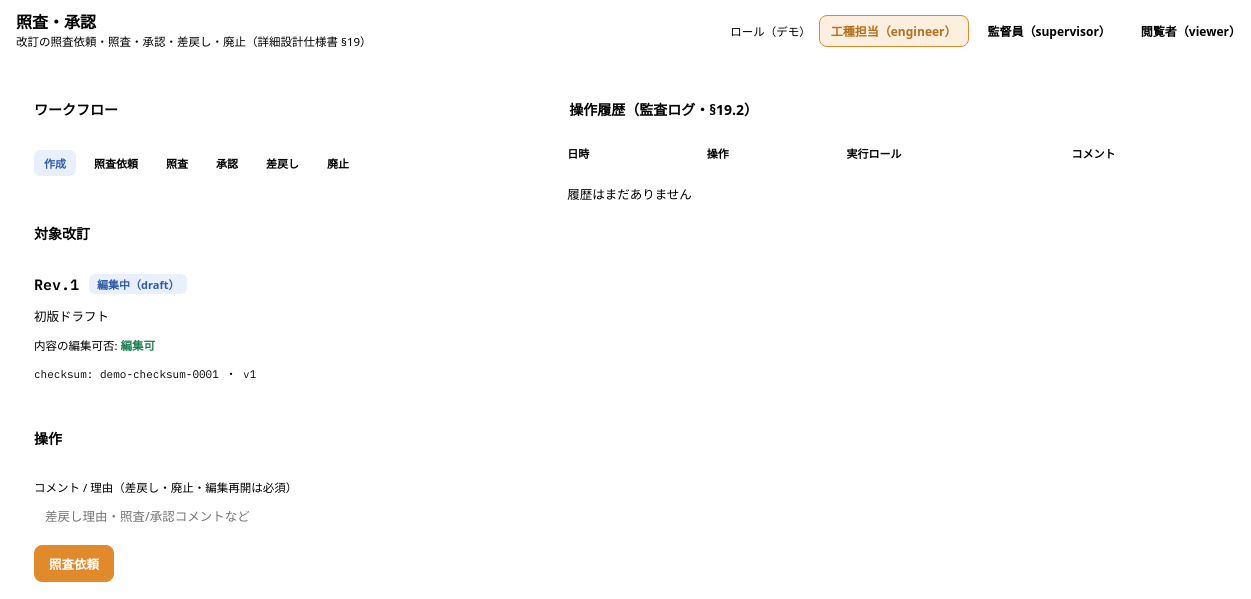
ReviewApprovalPage › supervisor が照査依頼→照査→承認で approved まで進める
Click the button "監督員（supervisor）" at [1049, 31], box [976,16,1122,46]
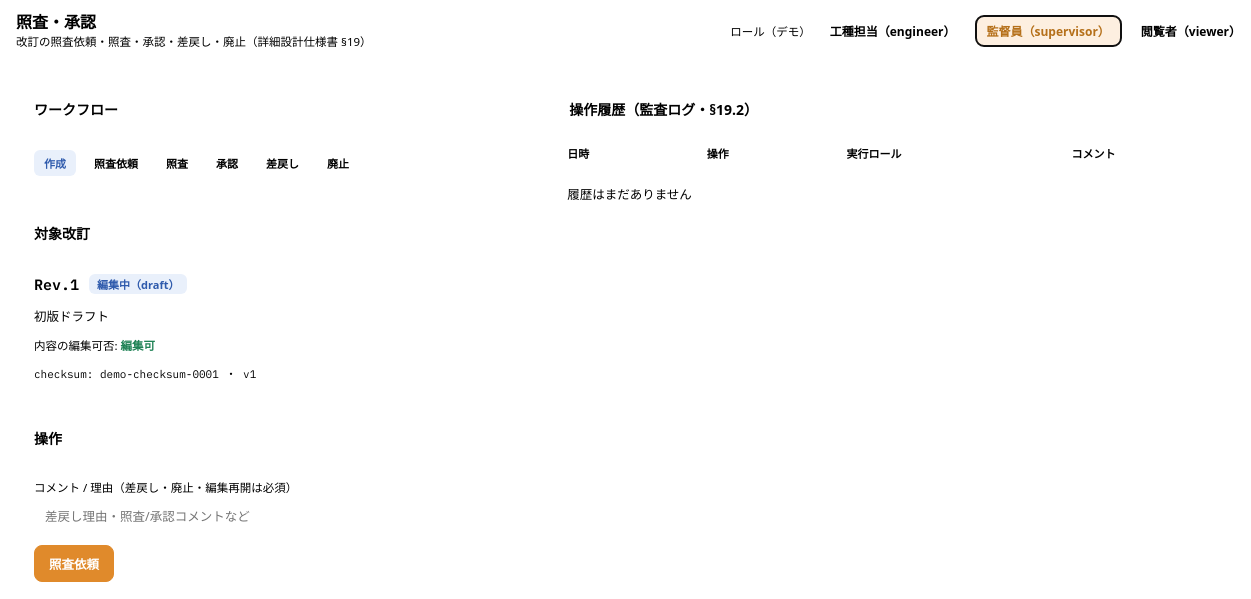
Click the button "照査依頼" at [74, 564], box [34,545,114,582]
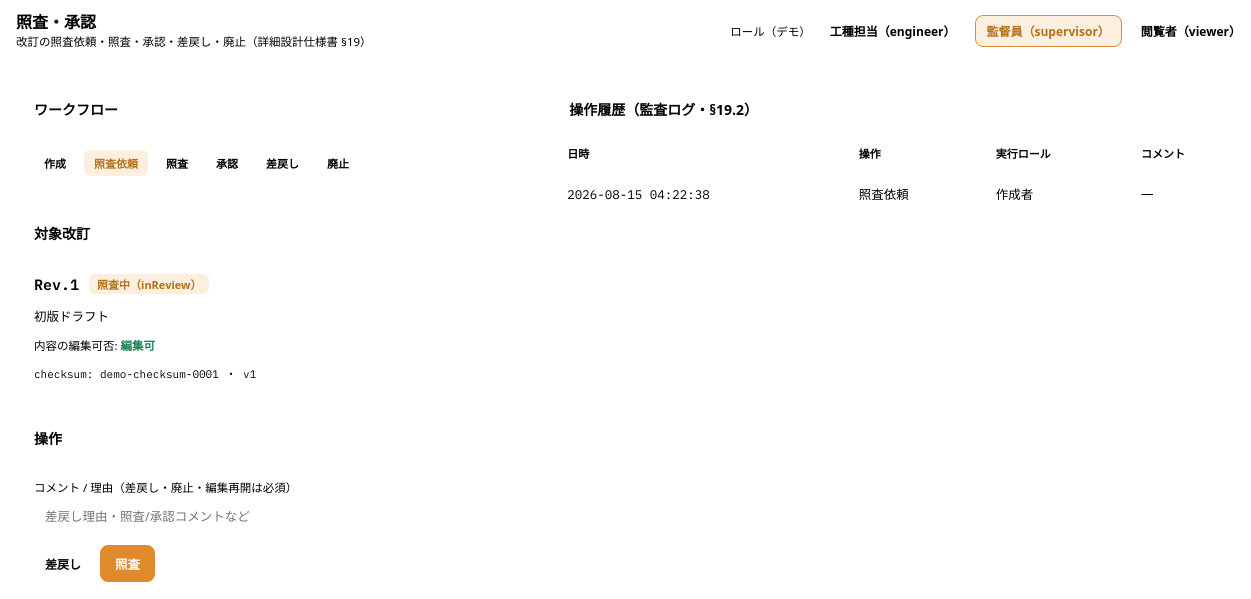
Click the button "照査" at [128, 564], box [100,545,155,582]
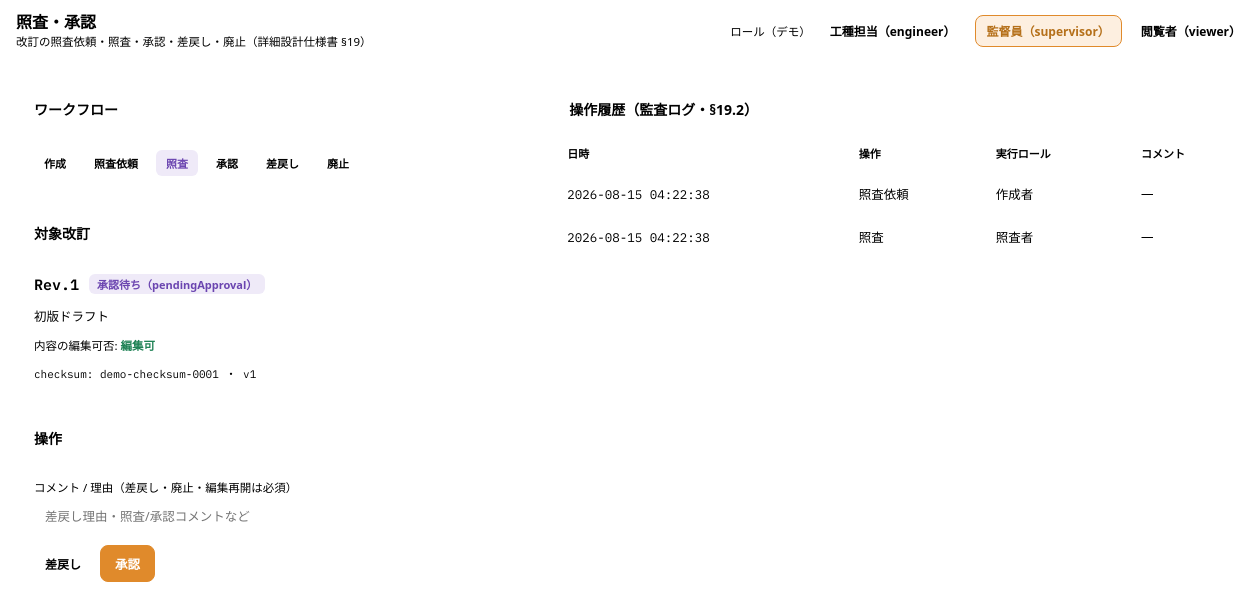
Expected: the text "承認待ち（pendingApproval）" is shown, [89,274,265,294]
Click the button "承認" at [128, 564], box [100,545,155,582]
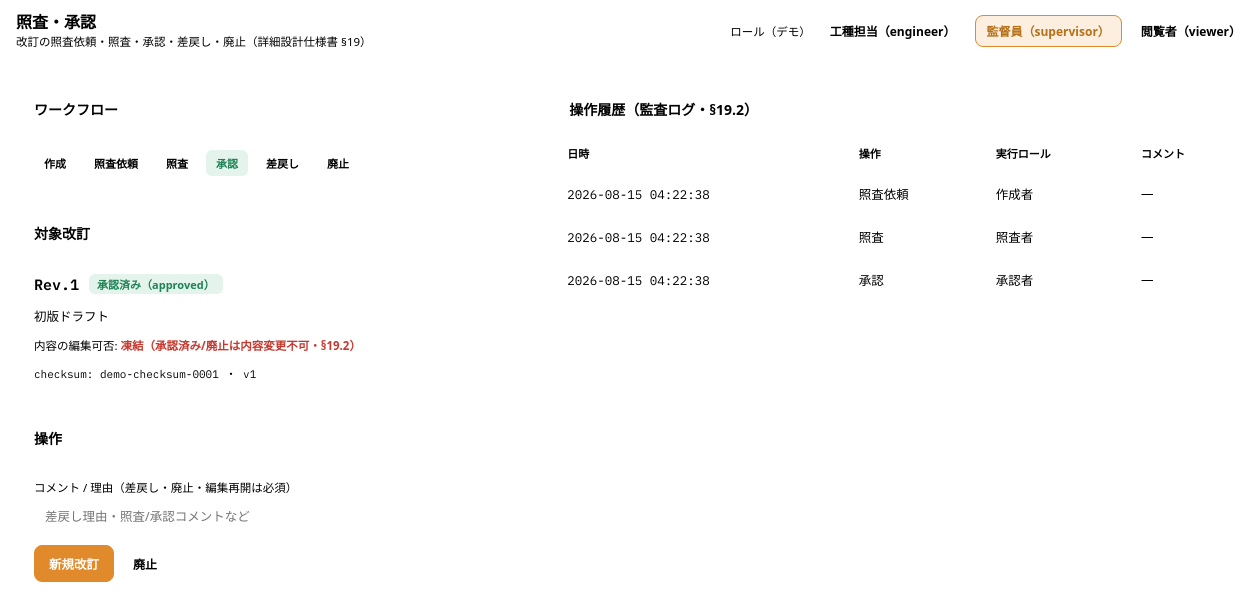
Expected: the text "承認済み（approved）" is shown, [89,274,223,294]
